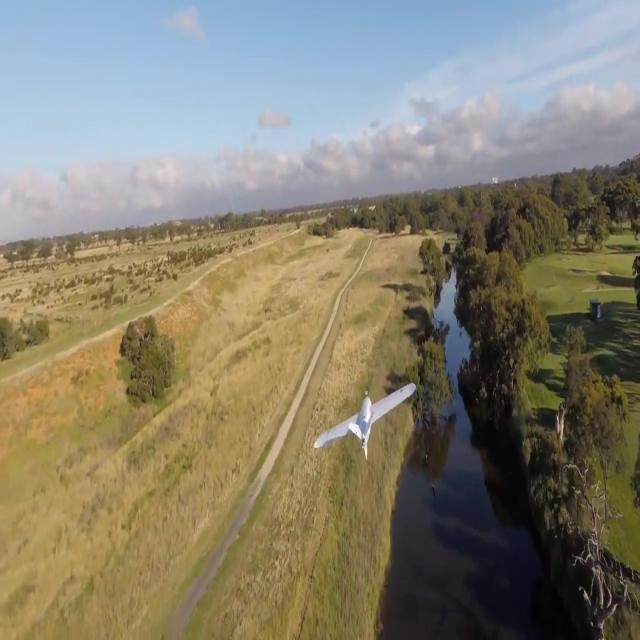iha: (346, 411, 384, 430)
